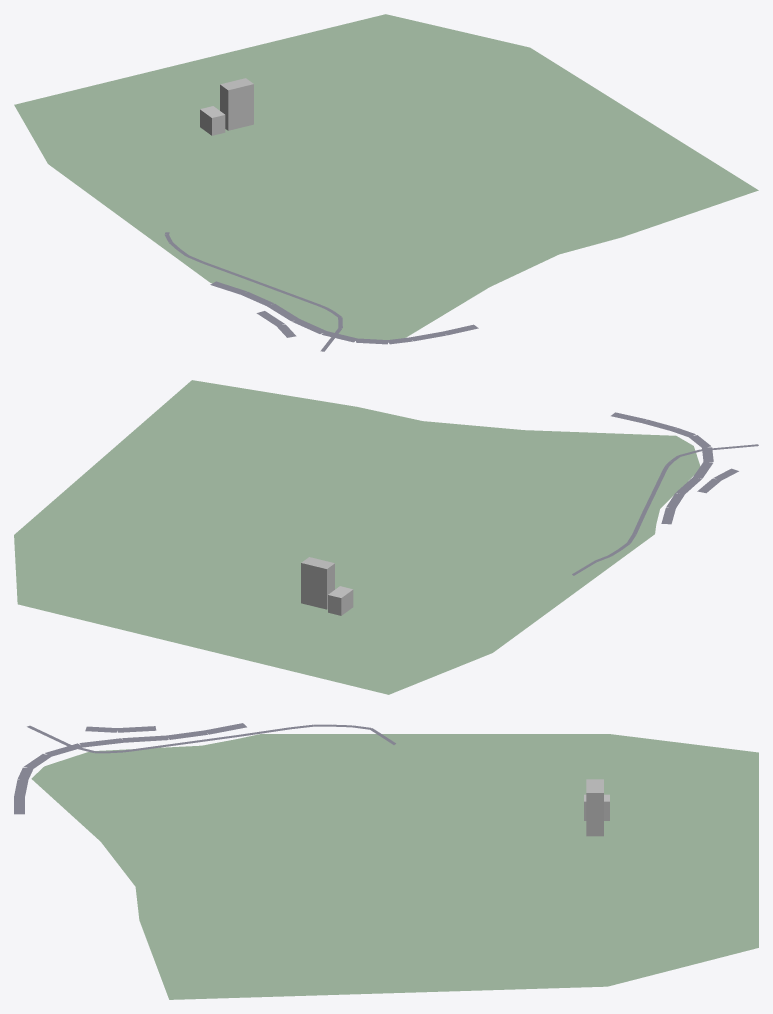
Rendered from 95_103_mid.glb.
3 renders of one model, top to bottom at view 1: azimuth 30°, elevation 25°; view 2: azimuth 150°, elevation 25°; view 3: azimuth 270°, elevation 25°, orthographic. The views are drawn at different scales.
Bounding box in the file's own units: 404 × 31 × 471.
